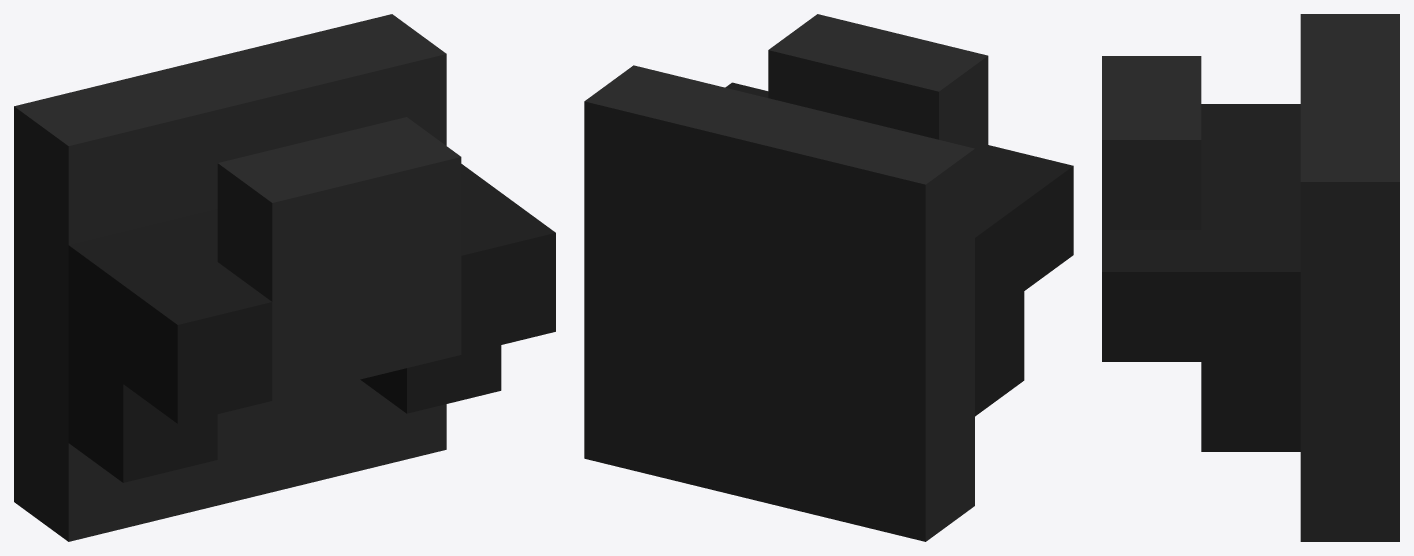
File: SecurityCameraStand.obj
3 renders of one model, left to right at view 1: azimuth 30°, elevation 25°; view 2: azimuth 150°, elevation 25°; view 3: azimuth 270°, elevation 25°, orthographic. The views are drawn at different scales.
Size of the model in its own units: 0.4 by 0.4 by 0.3.
1 material, 1 textured.
